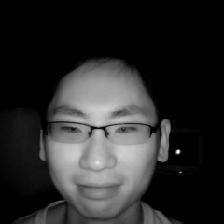happy: (32, 53, 174, 217)
